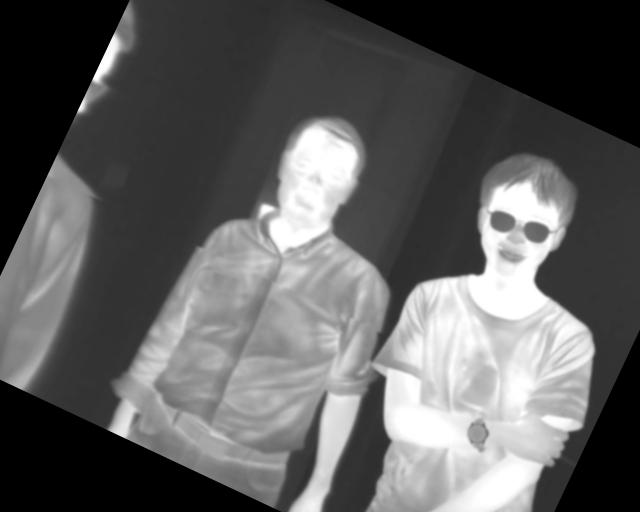face: (449, 136, 592, 295), (255, 99, 381, 243)
